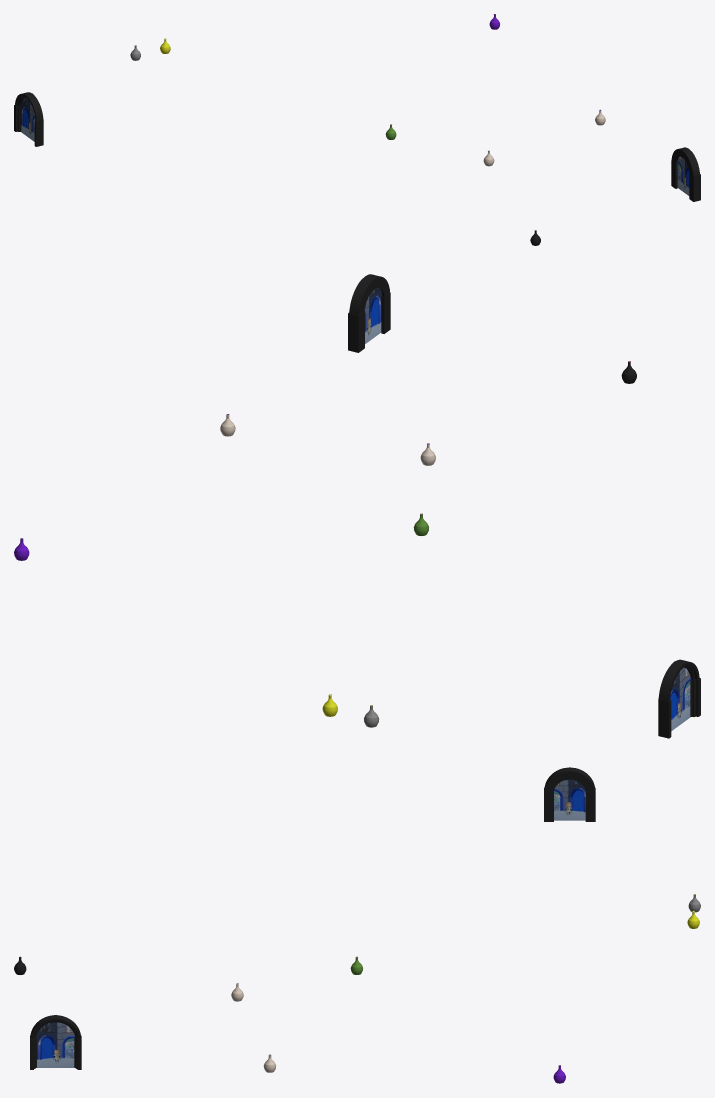
Rendered from maze.glb.
3 views of the same model, one above another, from view 1: azimuth 30°, elevation 25°; view 2: azimuth 150°, elevation 25°; view 3: azimuth 270°, elevation 25° (orthographic). The views are drawn at different scales.
Visible parts, largest first — view 1: Portal, Portal.001; view 2: Portal, Portal.001; view 3: Portal.001, Portal.
Boxes of the visible parts, bbox=[...] form: Portal: bbox=[671, 147, 700, 201]; Portal.001: bbox=[14, 92, 43, 146]; Portal: bbox=[348, 274, 390, 352]; Portal.001: bbox=[658, 659, 700, 738]; Portal.001: bbox=[544, 767, 595, 821]; Portal: bbox=[30, 1015, 81, 1069].
Size of what is drawn, in the model's own units: 27.66 by 2.47 by 30.06.
4 materials, 4 textured.
